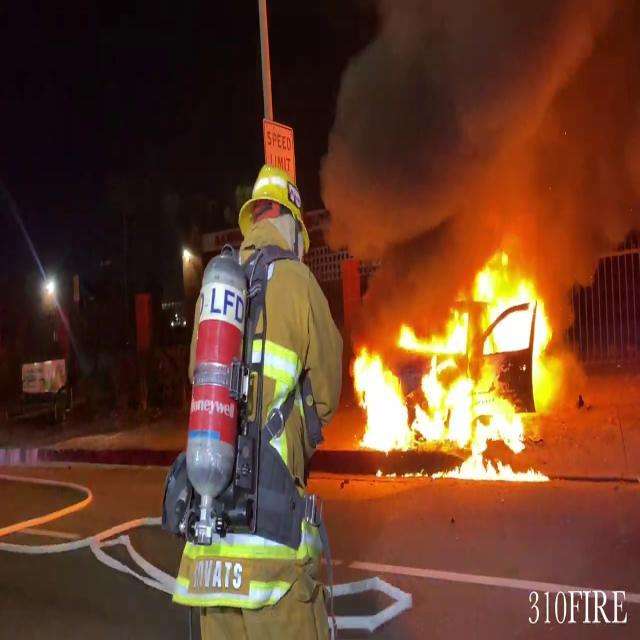Fire: (346, 240, 566, 480)
Smoke: (318, 0, 639, 261)
